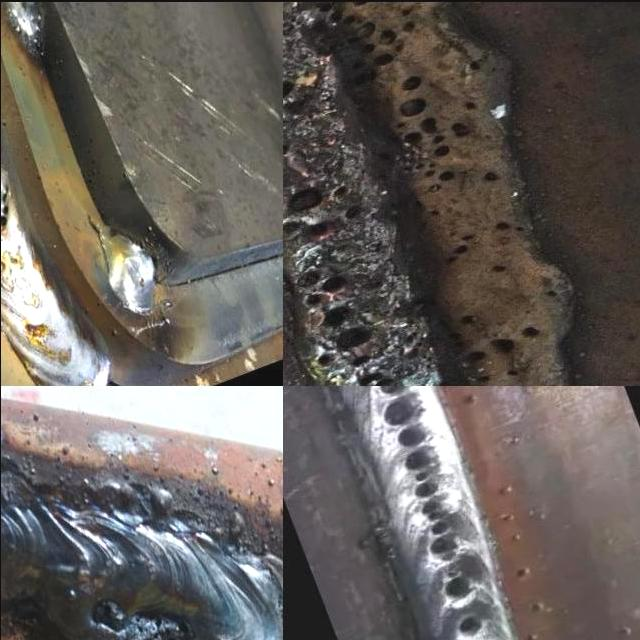defect: (374, 384, 459, 566), (288, 264, 394, 384), (393, 69, 476, 191), (312, 0, 418, 88), (282, 169, 362, 242), (90, 594, 195, 640), (452, 318, 548, 366), (440, 225, 479, 269), (436, 569, 474, 603), (453, 49, 493, 77), (474, 363, 527, 384), (451, 613, 483, 637), (493, 215, 530, 235), (481, 256, 515, 276), (478, 165, 505, 184), (0, 182, 10, 230), (456, 308, 480, 327), (539, 282, 565, 298)
